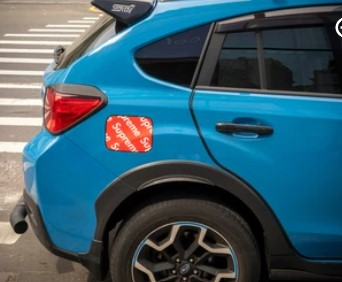closed: (102, 114, 155, 154)
